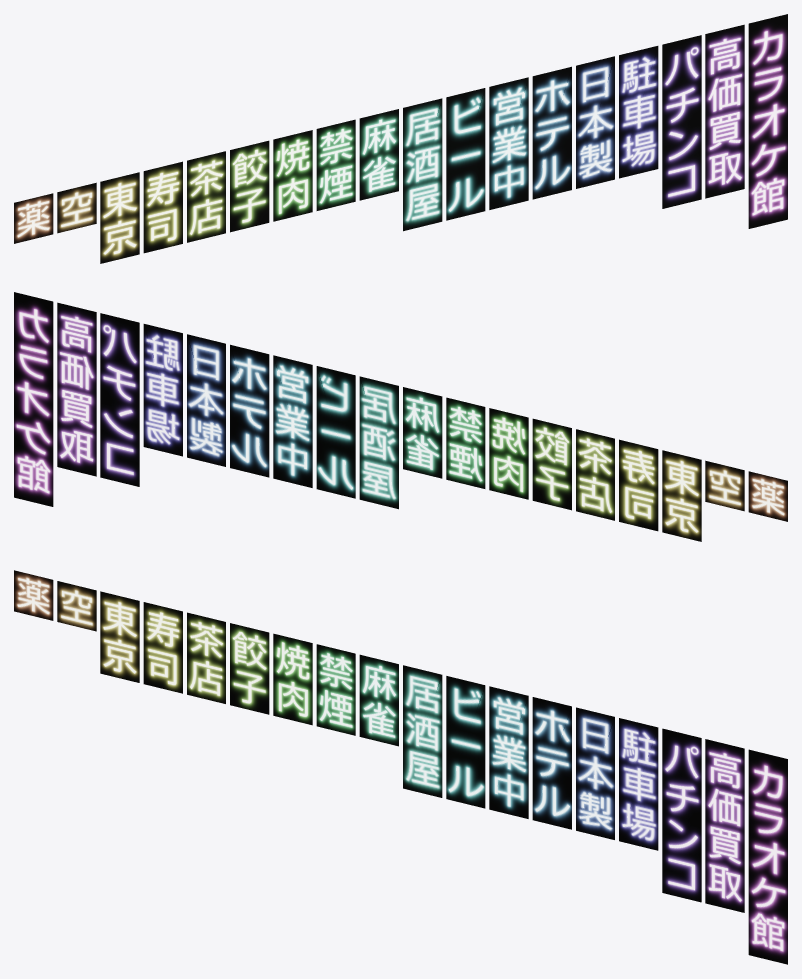
Rendered from jsmx_signs.fbx.
3 views of the same model, one above another, from view 1: azimuth 30°, elevation 25°; view 2: azimuth 150°, elevation 25°; view 3: azimuth 330°, elevation 25° (orthographic).
Visible parts, largest first — view 1: sign.017, sign.015, sign.016, sign.009, sign.012, sign.014, sign.010, sign.011, sign.013, sign.002, sign.006, sign.008 (+6 smaller); view 2: sign.017, sign.015, sign.016, sign.009, sign.012, sign.014, sign.010, sign.011, sign.013, sign.002, sign.006, sign.008 (+6 smaller); view 3: sign.017, sign.015, sign.016, sign.014, sign.011, sign.012, sign.009, sign.010, sign.013, sign.002, sign.003, sign.005 (+6 smaller).
Boxes of the visible parts, x1=… form: sign.017: x1=748, y1=14, x2=787, y2=228; sign.015: x1=662, y1=35, x2=701, y2=208; sign.016: x1=705, y1=24, x2=744, y2=198; sign.009: x1=403, y1=98, x2=442, y2=231; sign.012: x1=532, y1=66, x2=571, y2=199; sign.014: x1=619, y1=46, x2=658, y2=178; sign.010: x1=446, y1=88, x2=485, y2=220; sign.011: x1=489, y1=77, x2=528, y2=209; sign.013: x1=576, y1=56, x2=614, y2=188; sign.002: x1=100, y1=172, x2=139, y2=263; sign.006: x1=273, y1=130, x2=312, y2=221; sign.008: x1=359, y1=109, x2=398, y2=200; sign.017: x1=14, y1=292, x2=53, y2=506; sign.015: x1=100, y1=313, x2=139, y2=486; sign.016: x1=57, y1=302, x2=96, y2=476; sign.009: x1=359, y1=376, x2=398, y2=509; sign.012: x1=230, y1=344, x2=269, y2=477; sign.014: x1=143, y1=324, x2=182, y2=456; sign.010: x1=316, y1=366, x2=355, y2=498; sign.011: x1=273, y1=355, x2=312, y2=487; sign.013: x1=187, y1=334, x2=225, y2=466; sign.002: x1=662, y1=450, x2=701, y2=541; sign.006: x1=489, y1=408, x2=528, y2=499; sign.008: x1=403, y1=387, x2=442, y2=478; sign.017: x1=748, y1=749, x2=787, y2=964; sign.015: x1=662, y1=728, x2=701, y2=902; sign.016: x1=705, y1=739, x2=744, y2=912; sign.014: x1=619, y1=718, x2=658, y2=850; sign.011: x1=489, y1=686, x2=528, y2=818; sign.012: x1=532, y1=697, x2=571, y2=829; sign.009: x1=403, y1=665, x2=442, y2=797; sign.010: x1=446, y1=676, x2=485, y2=808; sign.013: x1=576, y1=707, x2=614, y2=839; sign.002: x1=100, y1=591, x2=139, y2=682; sign.003: x1=143, y1=602, x2=182, y2=693; sign.005: x1=230, y1=623, x2=269, y2=714.
Bounding box in the file's own units: 3940 × 1000 × 4.37e-05.
